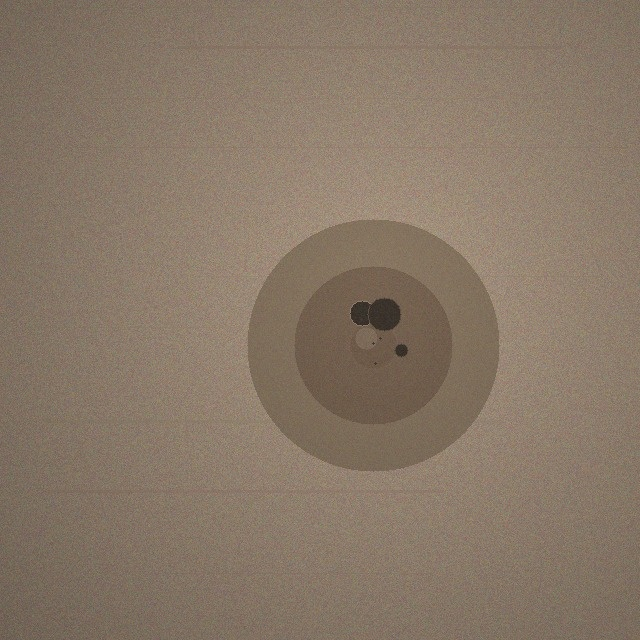shrinkage: (247, 219, 499, 471)
